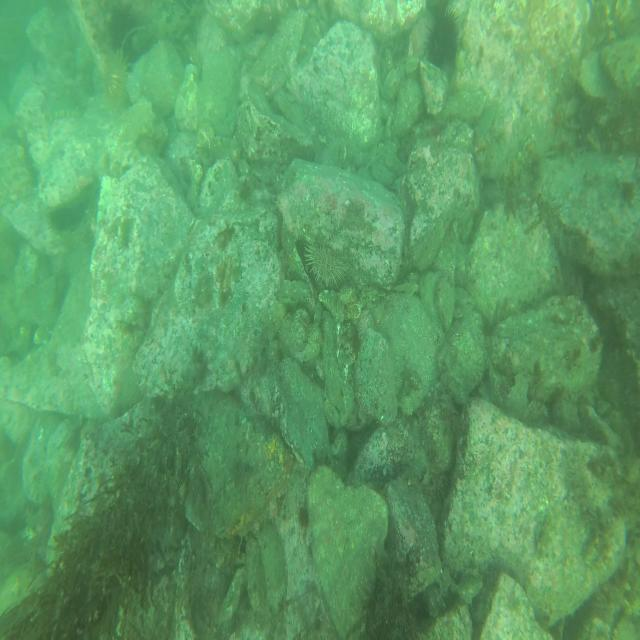echinus: (302, 238, 349, 292), (98, 52, 132, 112)
starfish: (473, 134, 490, 168)
